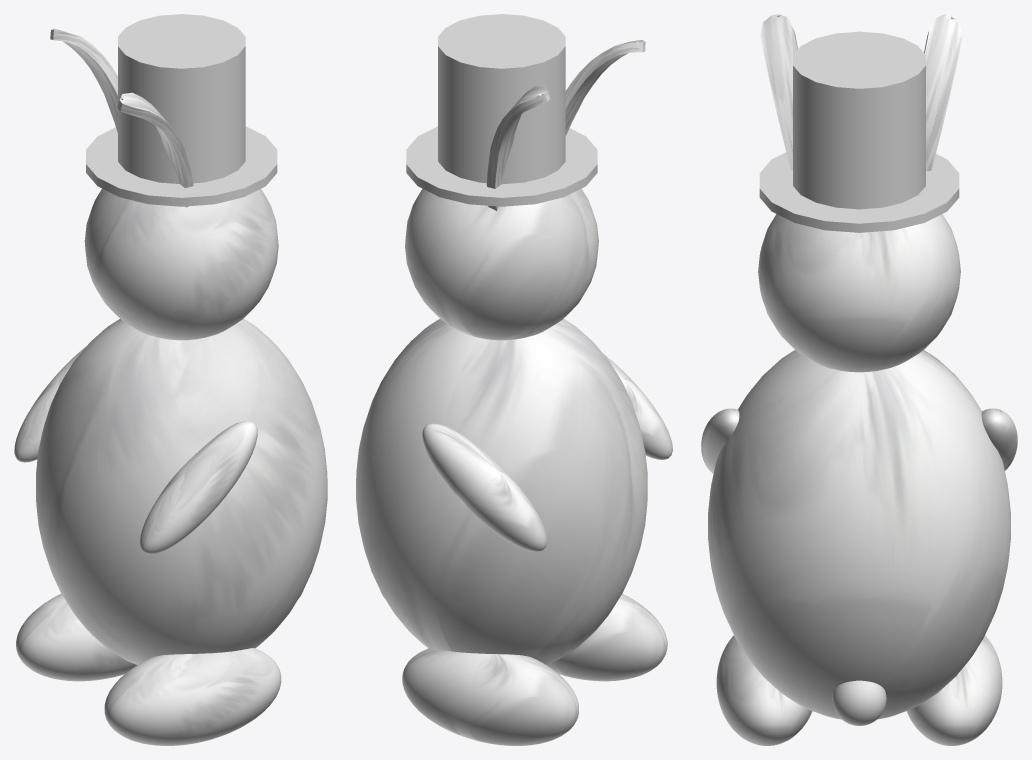
File: Rabbit.FBX
3 views of the same model, side by side, from view 1: azimuth 30°, elevation 25°; view 2: azimuth 150°, elevation 25°; view 3: azimuth 270°, elevation 25° (orthographic). The views are drawn at different scales.
Parts seen in each view (by area): view 1: Sphere002, Sphere001, Cylinder001, Sphere003, Sphere005, Cylinder002, Sphere004, Box002, Sphere006, Box001; view 2: Sphere002, Sphere001, Cylinder001, Sphere004, Sphere006, Cylinder002, Sphere003, Box001, Sphere005, Box002; view 3: Sphere002, Sphere001, Cylinder001, Cylinder002, Sphere003, Sphere004, Box001, Box002, Sphere007, Sphere005, Sphere006.
Part boxes in pixels (x1,y1,x2,y2): Sphere002: (36, 318, 327, 664); Sphere001: (84, 188, 278, 340); Cylinder001: (118, 14, 245, 183); Sphere003: (104, 648, 281, 745); Sphere005: (140, 421, 257, 554); Cylinder002: (86, 126, 277, 206); Sphere004: (16, 594, 136, 681); Box002: (117, 92, 193, 207); Sphere006: (14, 347, 85, 462); Box001: (50, 28, 117, 132); Sphere002: (356, 319, 647, 664); Sphere001: (405, 188, 598, 340); Cylinder001: (438, 14, 565, 184); Sphere004: (402, 648, 578, 745); Sphere006: (422, 423, 547, 551); Cylinder002: (406, 126, 597, 206); Sphere003: (546, 594, 667, 681); Box001: (486, 85, 550, 210); Sphere005: (604, 354, 672, 459); Box002: (565, 40, 645, 135); Sphere002: (708, 350, 1010, 719); Sphere001: (758, 214, 960, 372); Cylinder001: (793, 31, 925, 209); Cylinder002: (759, 152, 959, 232); Sphere003: (716, 635, 812, 745); Sphere004: (906, 635, 1002, 745); Box001: (924, 14, 962, 170); Box002: (760, 14, 797, 169); Sphere007: (832, 680, 886, 725); Sphere005: (701, 408, 739, 473); Sphere006: (981, 408, 1017, 470).
Bounding box in the file's own units: 90.07 × 224 × 93.63.
